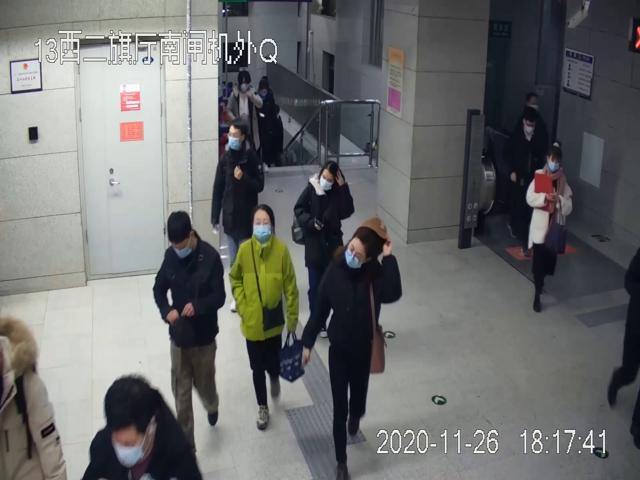person: (301, 224, 403, 480), (152, 209, 225, 456), (228, 203, 300, 427), (291, 160, 355, 337), (211, 117, 264, 312), (524, 137, 572, 310)
